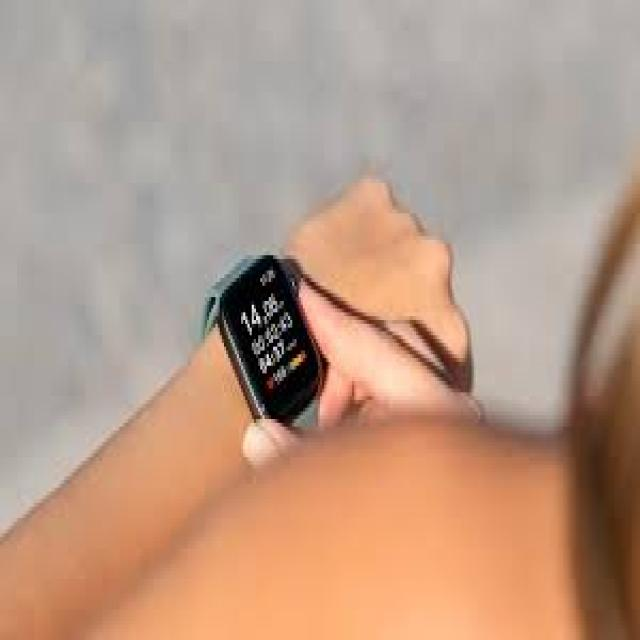objects: (201, 252, 326, 431)
